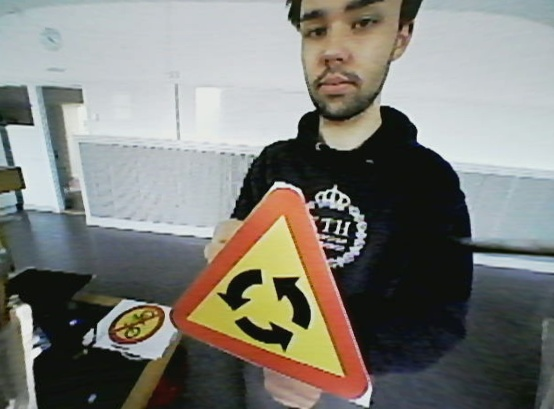roundabout_warning: (159, 179, 370, 404)
